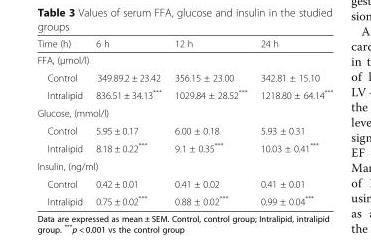table: (36, 37, 332, 206)
table column: (167, 37, 253, 206), (88, 37, 167, 206), (253, 37, 332, 206), (36, 37, 88, 206)
table column header: (36, 37, 332, 50)
table projected row header: (36, 50, 332, 68), (36, 103, 332, 121), (36, 156, 332, 174)
table row: (36, 50, 332, 68), (36, 85, 332, 103), (36, 103, 332, 121), (36, 138, 332, 156), (36, 156, 332, 174), (36, 68, 332, 85), (36, 121, 332, 138), (36, 174, 332, 191), (36, 191, 332, 206), (36, 37, 332, 50)
